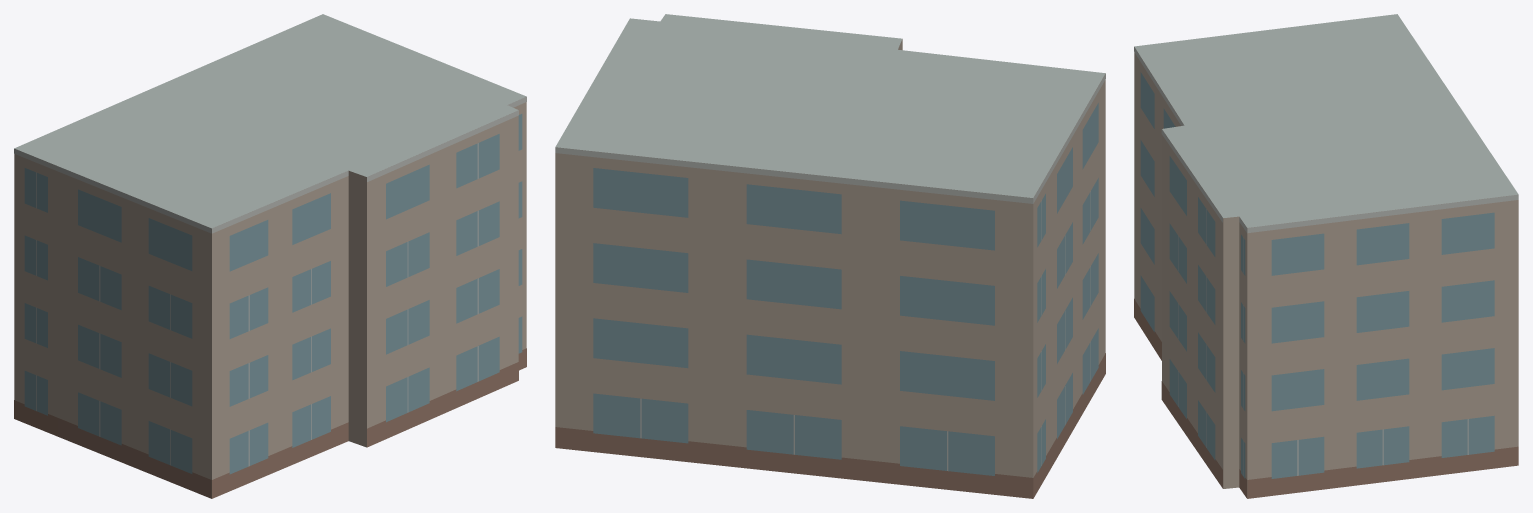
File: survey-upis-32720552.glb
3 views of the same model, side by side, from view 1: azimuth 30°, elevation 25°; view 2: azimuth 150°, elevation 25°; view 3: azimuth 270°, elevation 25° (orthographic). The views are drawn at different scales.
Parts seen in each view (by area): view 1: survey-upis-32720552.tmp; view 2: survey-upis-32720552.tmp; view 3: survey-upis-32720552.tmp.
Boxes of the visible parts, <box> form: survey-upis-32720552.tmp: <box>14,14,526,498</box>; survey-upis-32720552.tmp: <box>555,14,1105,498</box>; survey-upis-32720552.tmp: <box>1134,14,1518,498</box>.
Size of the model in its own units: 21.18 by 12.5 by 16.09.
